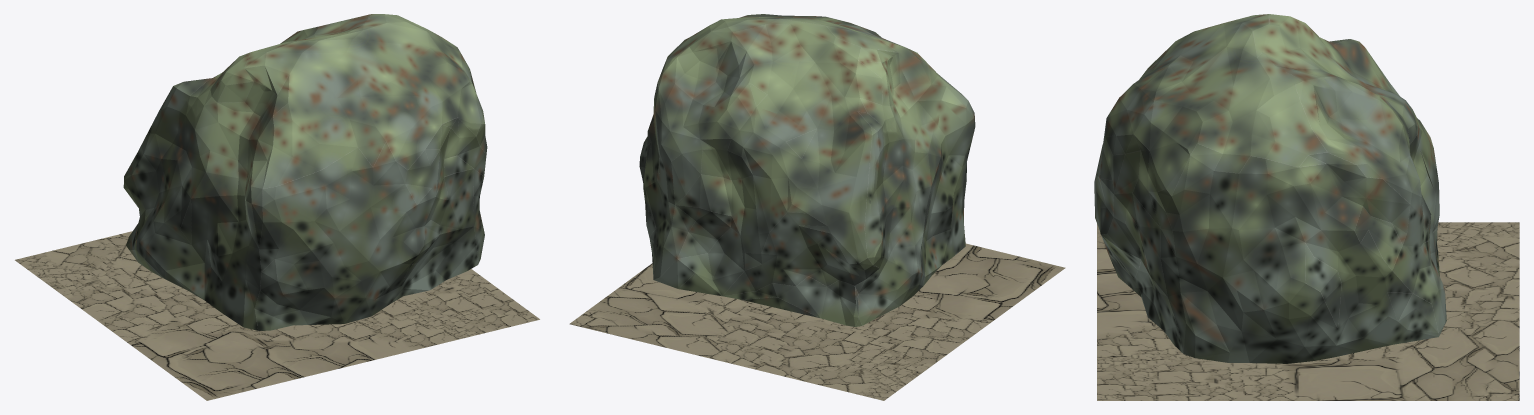
The model's file is cueva_malla.glb.
3 renders of one model, left to right at view 1: azimuth 30°, elevation 25°; view 2: azimuth 150°, elevation 25°; view 3: azimuth 270°, elevation 25°, orthographic. The views are drawn at different scales.
Parts seen in each view (by area): view 1: Cube, Plane; view 2: Cube, Plane; view 3: Cube, Plane.
Part boxes in pixels (box(x1,y1,x2,y2)): Cube: box(123, 14, 487, 330); Plane: box(15, 231, 539, 400); Cube: box(639, 14, 975, 326); Plane: box(569, 243, 1065, 400); Cube: box(1094, 14, 1446, 363); Plane: box(1097, 222, 1519, 400).
Bounding box in the file's own units: 15.8 × 11.18 × 14.9.
Materials: 2 (2 with a texture image).
